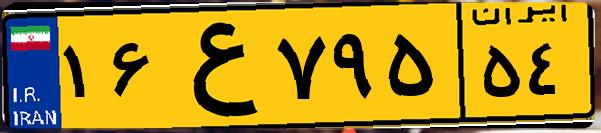1: (57, 26, 110, 100)
4: (525, 38, 570, 115)
5: (385, 28, 445, 110), (475, 38, 525, 113)
6: (110, 28, 158, 98)
7: (270, 28, 330, 110)
9: (330, 28, 385, 110)
ع: (158, 12, 270, 120)
